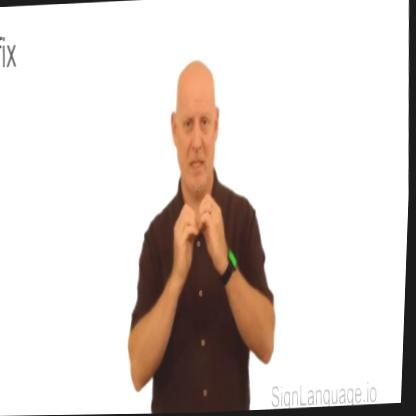Fix: (160, 176, 241, 296)
